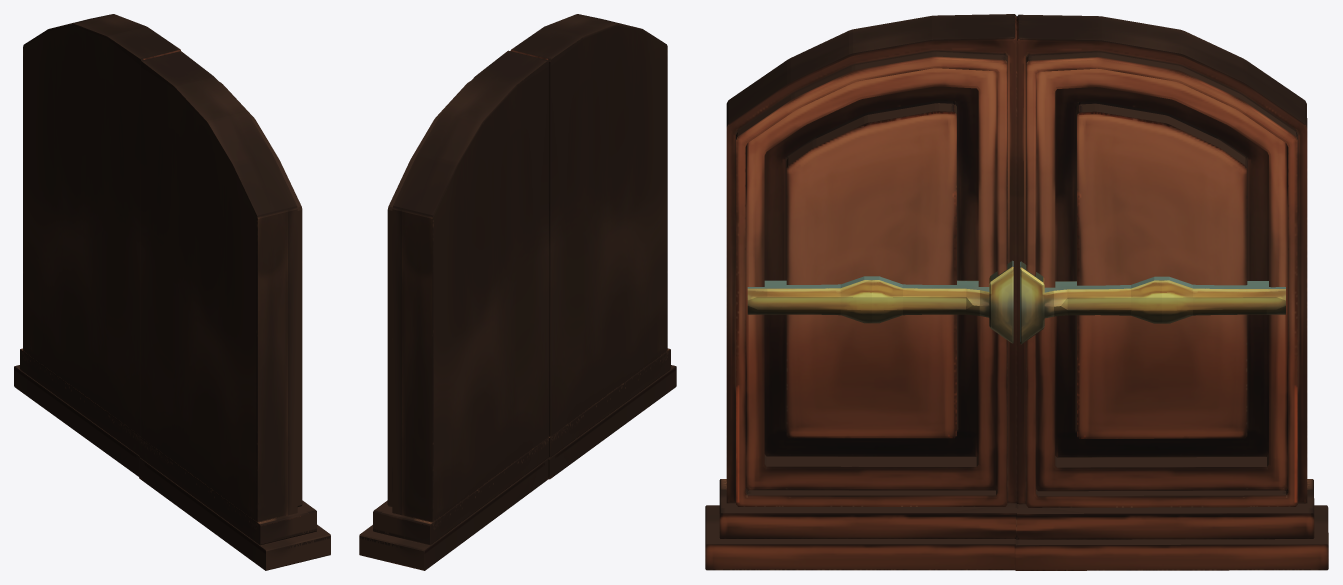
Rendered from Portao.fbx.
3 renders of one model, left to right at view 1: azimuth 30°, elevation 25°; view 2: azimuth 150°, elevation 25°; view 3: azimuth 270°, elevation 25°, orthographic. The views are drawn at different scales.
Visible parts, largest first — view 1: Cube, Cube.005; view 2: Cube.005, Cube; view 3: Cube, Cube.005, Cube.004, Cube.006.
Part boxes in pixels (<box>): Cube: <box>139,51,330,570</box>; Cube.005: <box>14,14,180,476</box>; Cube.005: <box>359,50,549,570</box>; Cube: <box>510,14,676,479</box>; Cube: <box>705,14,1016,570</box>; Cube.005: <box>1014,14,1328,570</box>; Cube.004: <box>747,260,1013,343</box>; Cube.006: <box>1020,261,1285,344</box>.
Bounding box in the file's own units: 2087 × 12580 × 13738.
2 materials, 2 textured.
